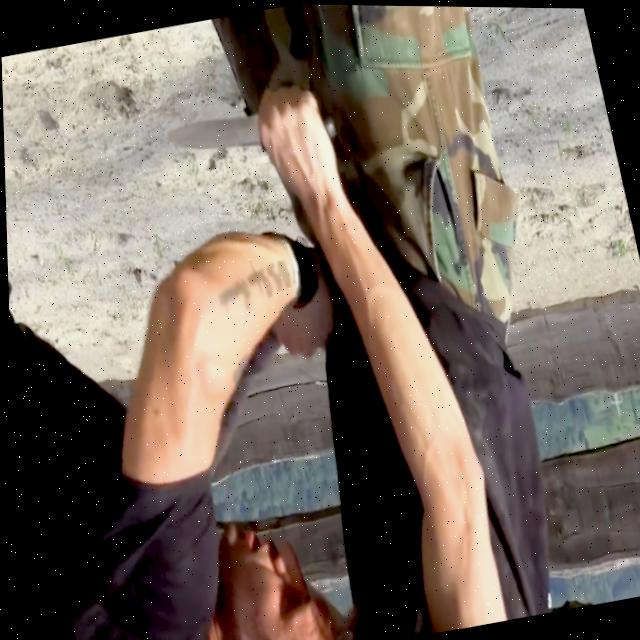knife: (163, 106, 262, 161)
